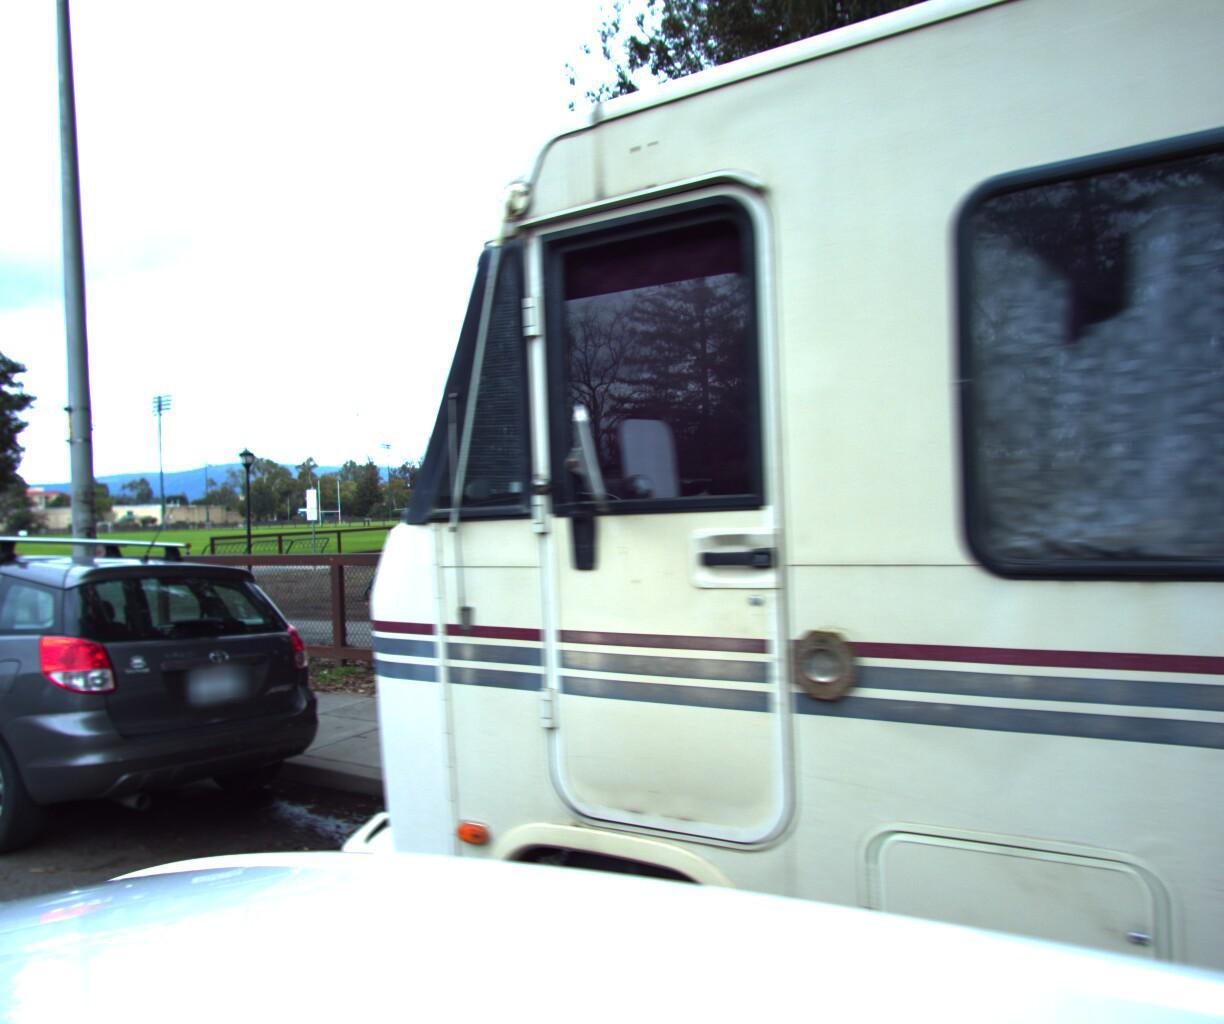bicycle: (371, 534, 455, 586), (394, 537, 463, 576)
